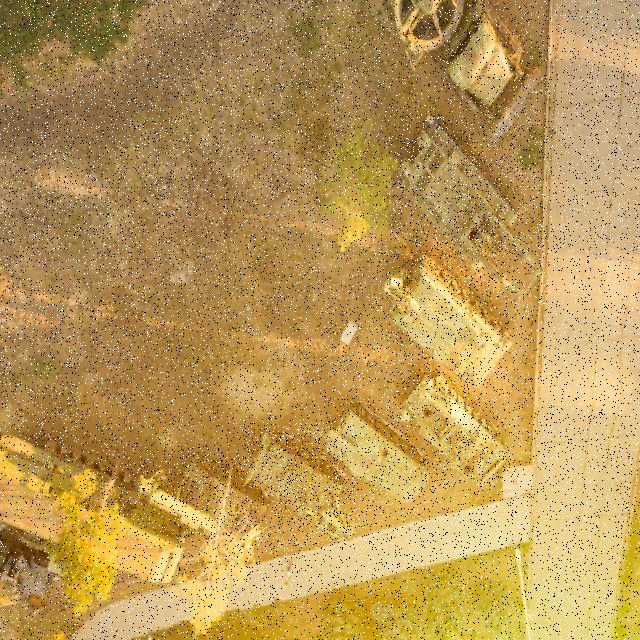MIL_MBT: (395, 114, 543, 306), (379, 251, 513, 390), (243, 423, 357, 551), (394, 368, 510, 490), (322, 395, 432, 508), (173, 451, 268, 542)
